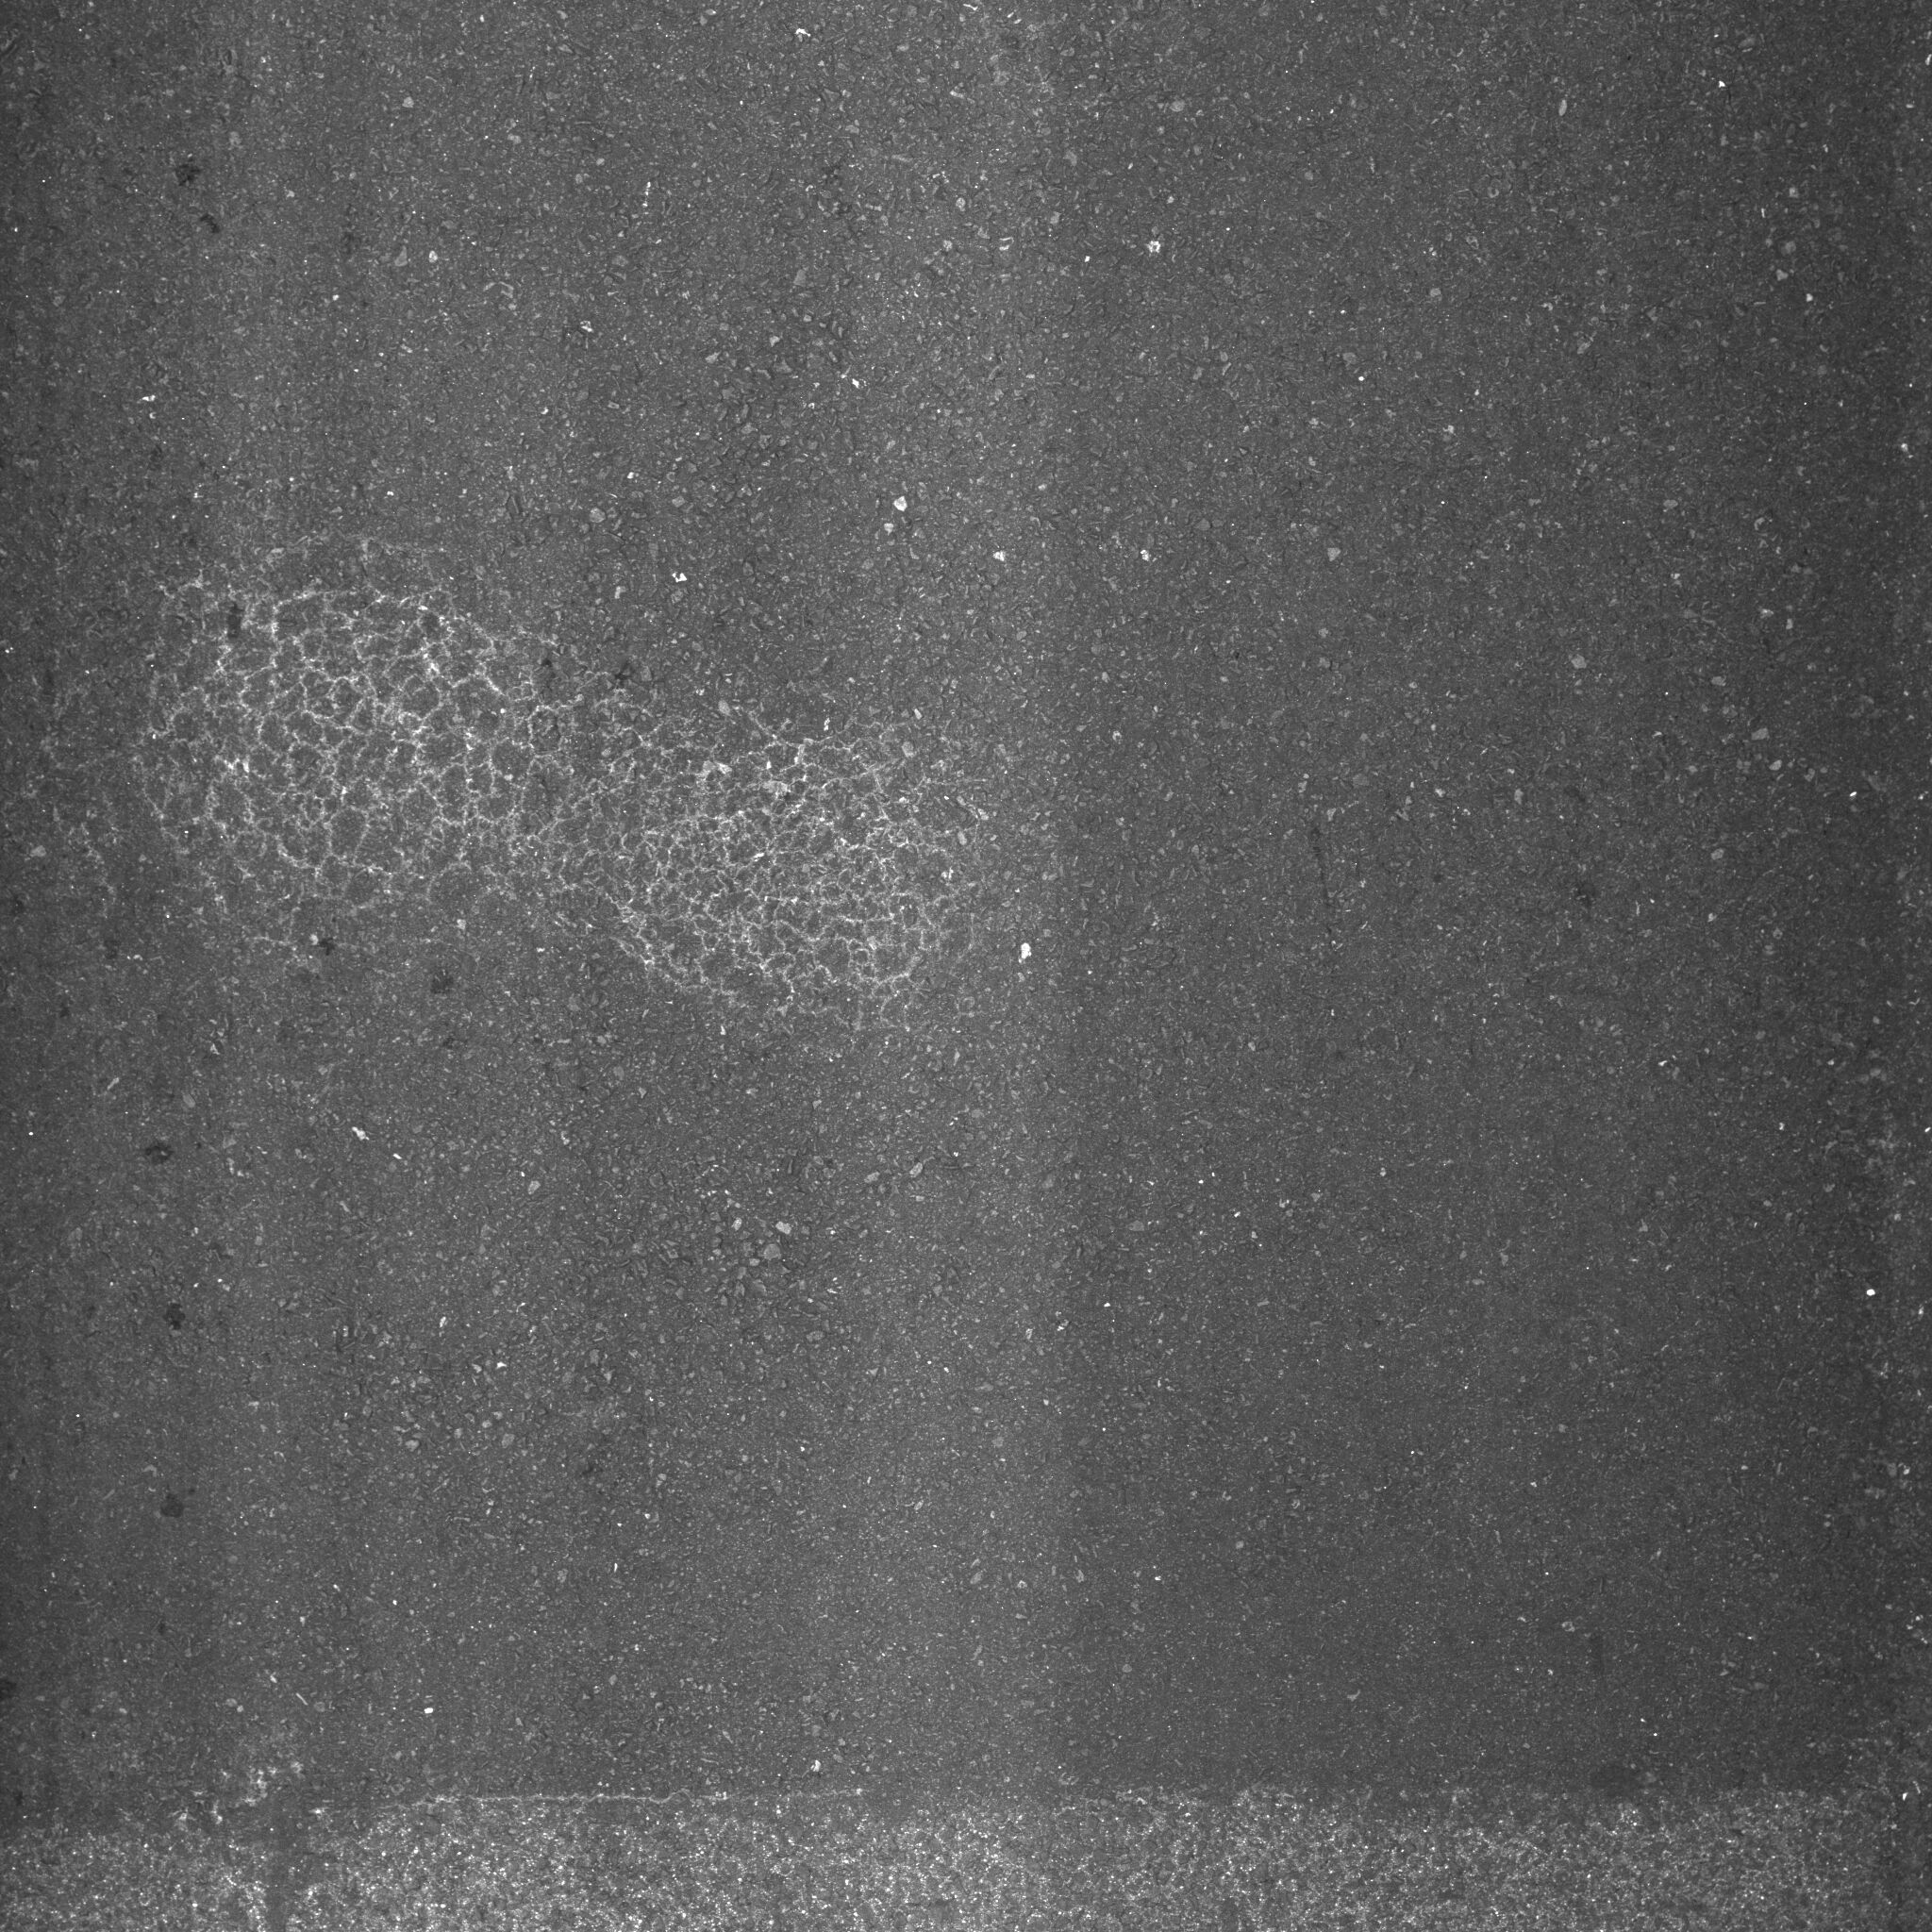alligator: (115, 522, 1086, 1154)
